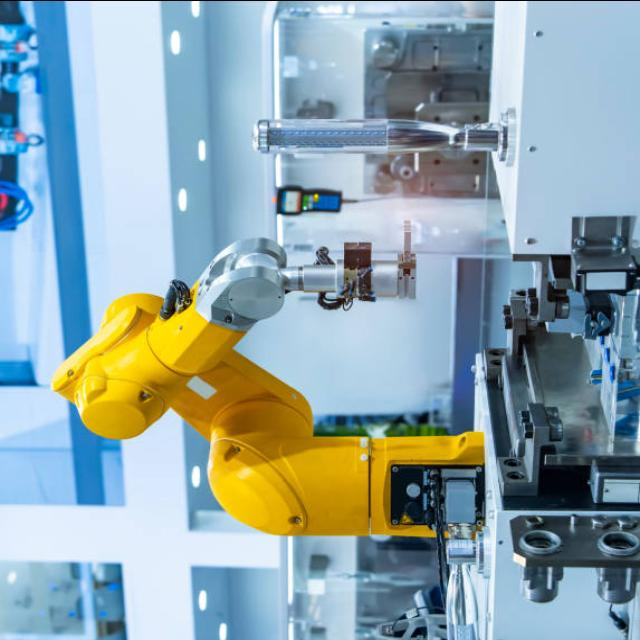Robotic-arm: (49, 232, 491, 542)
